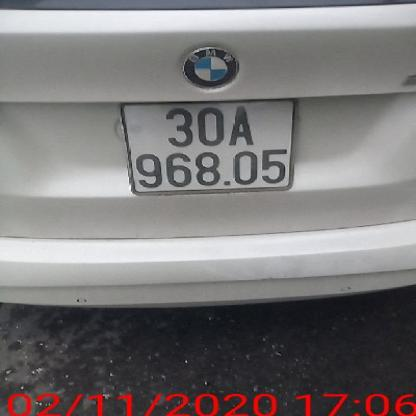biensoxe: (115, 96, 309, 203)
